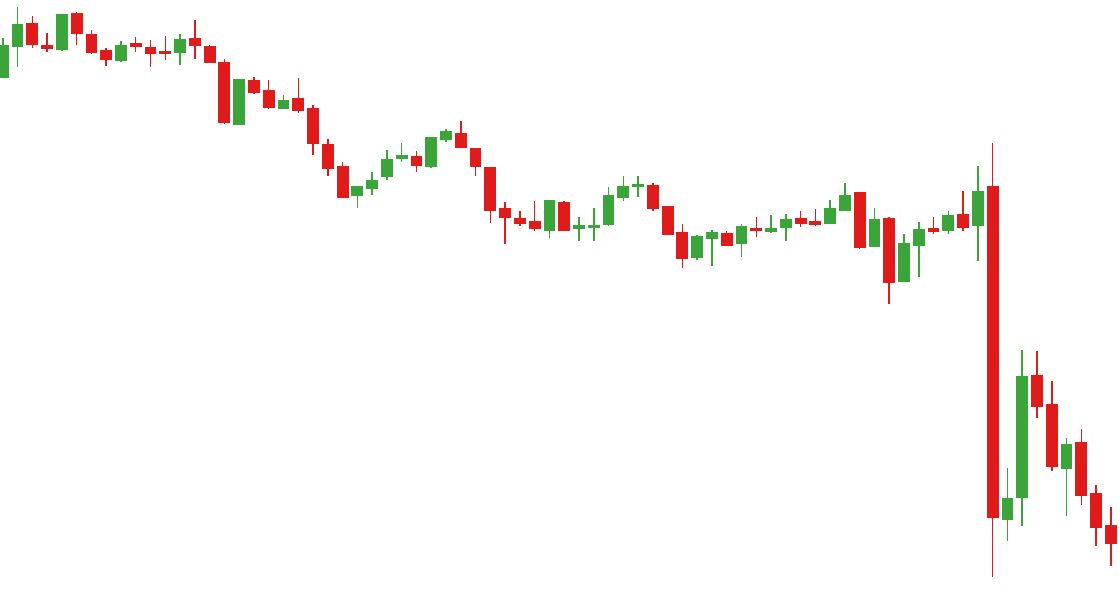sell: (541, 176, 661, 227)
